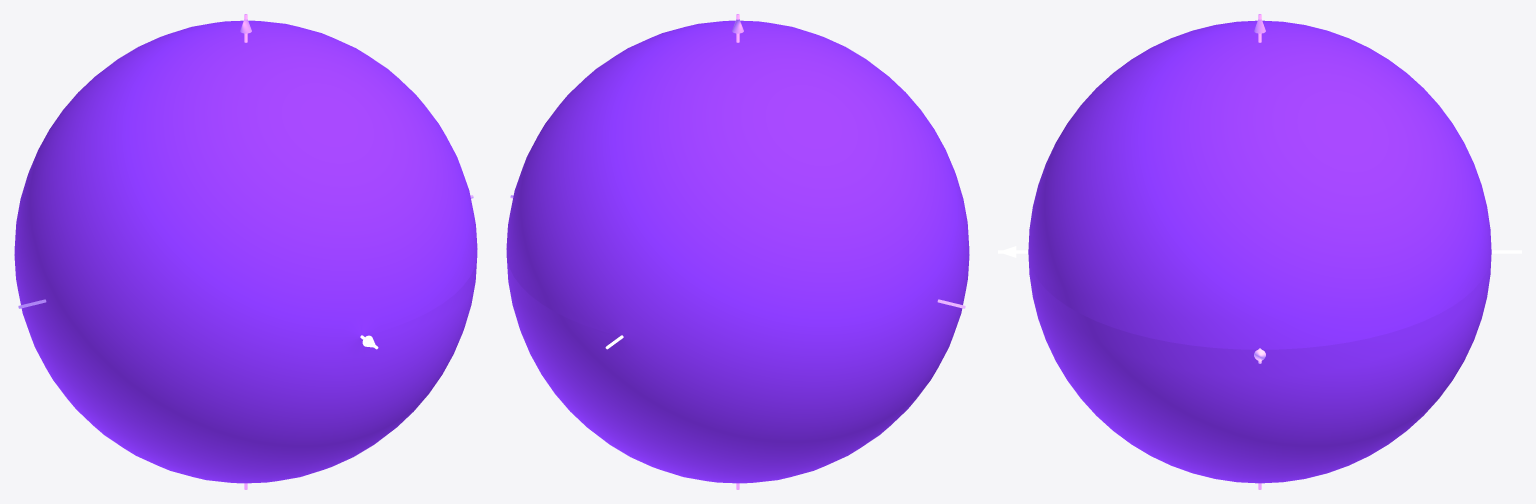
File: bloch-sphere.gltf
The picture shows the model from 3 angles, left to right: view 1: azimuth 30°, elevation 25°; view 2: azimuth 150°, elevation 25°; view 3: azimuth 270°, elevation 25°; orthographic projection.
Parts seen in each view (by area): view 1: Halo; view 2: Halo; view 3: Halo.
Boxes of the visible parts, x1=… form: Halo: x1=14, y1=20, x2=477, y2=483; Halo: x1=506, y1=20, x2=969, y2=483; Halo: x1=1028, y1=20, x2=1491, y2=483.
Bounding box in the file's own units: 2.6 × 2.6 × 2.6.
